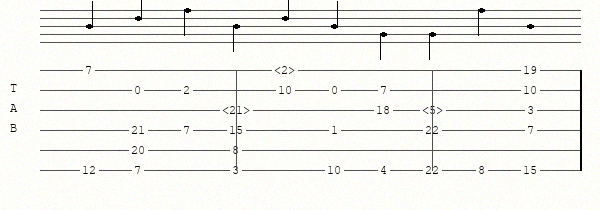0: (134, 84, 145, 96), (331, 84, 342, 96)
1: (331, 124, 342, 136)
10: (278, 84, 296, 96), (327, 164, 345, 176), (523, 84, 541, 96)
12: (82, 164, 100, 176)
15: (229, 124, 247, 136), (523, 164, 541, 176)
18: (376, 104, 394, 116)
19: (523, 64, 541, 76)
2: (183, 84, 194, 96)
20: (131, 144, 149, 156)
21: (131, 124, 149, 136)
22: (425, 164, 443, 176), (425, 124, 443, 136)
3: (232, 164, 243, 176), (527, 104, 538, 116)
4: (380, 164, 391, 176)
7: (85, 64, 96, 76), (134, 164, 145, 176), (183, 124, 194, 136), (380, 84, 391, 96), (527, 124, 538, 136)
8: (232, 144, 243, 156), (478, 164, 489, 176)
harmonic: (222, 104, 254, 117), (274, 64, 299, 77), (422, 104, 447, 117)
